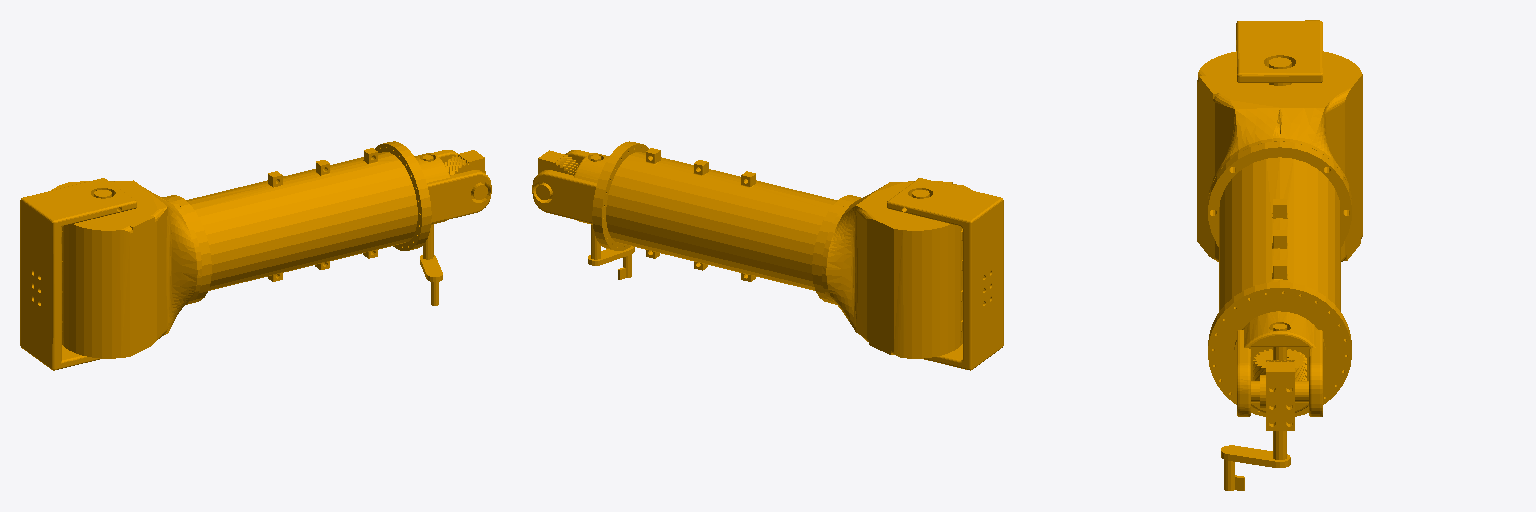
URDF robot description (modular_robot):
<robot name="modular_robot">
  <link name="link0">
    <inertial>
      <mass value="0.1"/>
      <origin rpy="0  0  0" xyz="0  0  0"/>
      <inertia ixx="0.14" ixy="0" ixz="0" iyy="0.14" iyz="0" izz="0.14"/>
    </inertial>
    <collision name="collision">
      <origin rpy="0  0  0" xyz="0       0       0.03599"/>
      <geometry>
        <box size="0.073000 0.276000 0.072000"/>
      </geometry>
    </collision>
    <visual name="visual">
      <origin rpy="0  0  0" xyz="0       0       0.03599"/>
      <geometry>
        <mesh filename="package://surf_rec/meshes/HML/Medium_module_part.stl" scale="1.0 1.0 1.0"/>
      </geometry>
    </visual>
  </link>
</robot>

--- Render facts (derived) ---
Views: 3 orthographic renders of the robot side by side, from view 1: azimuth 30°, elevation 25°; view 2: azimuth 150°, elevation 25°; view 3: azimuth 270°, elevation 25°.
Model modular_robot with 1 links and 0 joints (none), rooted at link0, posed all joints at 0.
Visible links, largest first — view 1: link0; view 2: link0; view 3: link0.
Boxes of the visible links, x1,y1,x2,y2 form: link0: [20, 141, 491, 370]; link0: [532, 141, 1003, 370]; link0: [1197, 20, 1362, 490].
Bounding box of the posed robot: 0.3492 × 0.0857 × 0.13 m (x, y, z).
Meshes: 1 distinct files referenced, 1 mesh visuals loaded (1 binary STL).